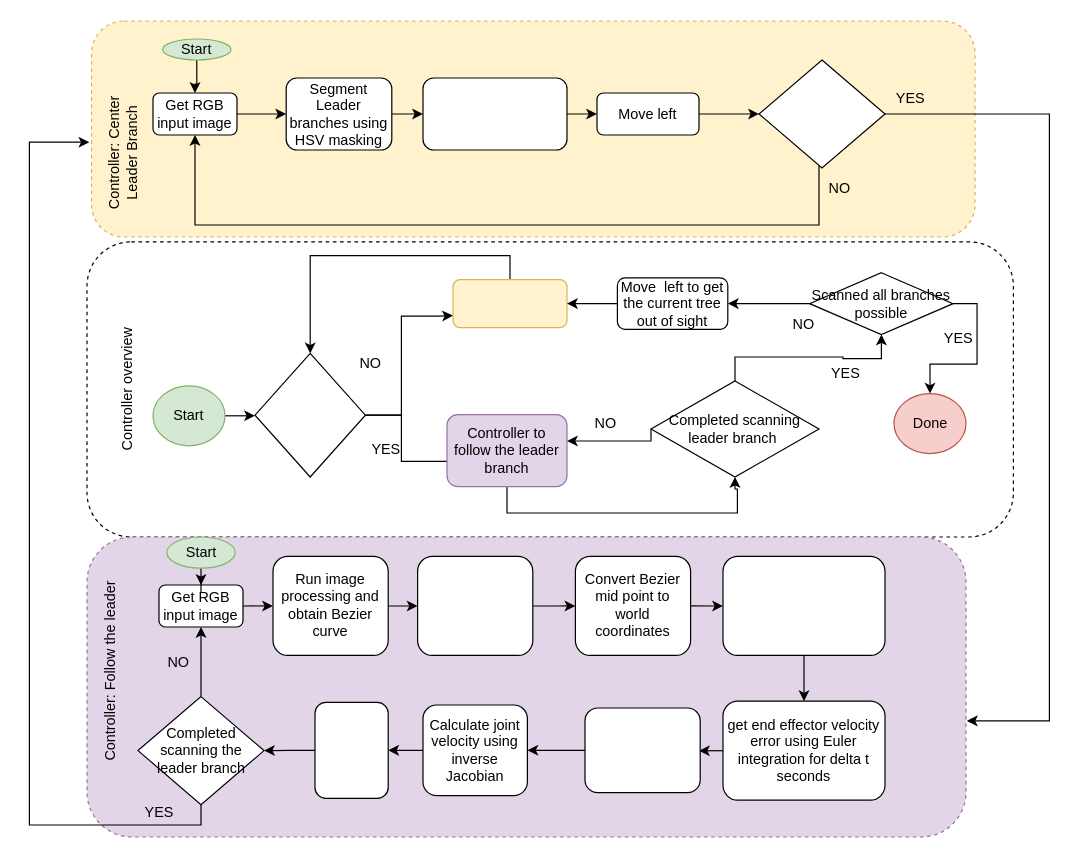
Image size: 1080x858. Some labels were removed from this diagram. Each missing label, with the centre of its shape:
"Check if the centroid is in the image center" goes at point 821,113.
"compute position error (Bezier mid point - current end effector position)" goes at point 803,605.
"Controller to center leader" goes at point 509,303.
"Get branch contour and centroid" goes at point 494,113.
"Get mid point of the Bezier curve in pixel coordinates" goes at point 474,605.
"Is the leader branch centered" goes at point 309,414.
"move the robot for delta t seconds" goes at point 351,749.
"PI controller for end effector velocity" goes at point 642,750.
